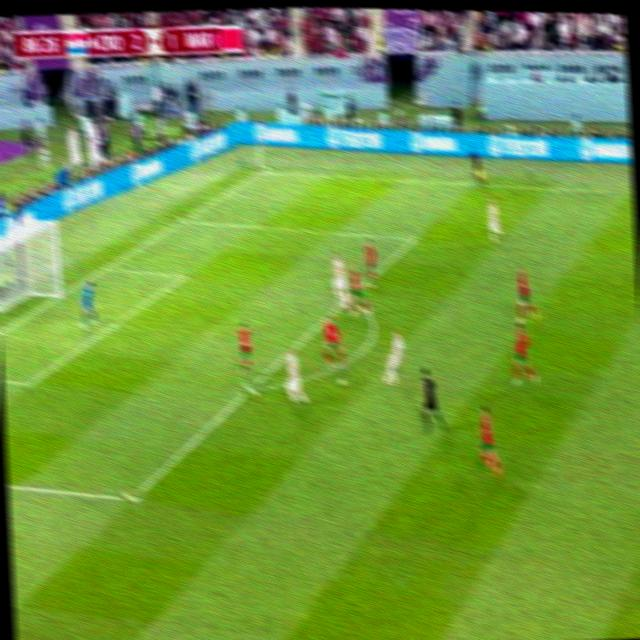bigarea_bottom_inner: (121, 485, 142, 514)
bigarea_top_inner: (406, 224, 422, 255)
bigarea_top_outter: (177, 210, 190, 231)
bottom_arc_area_intersection: (243, 376, 259, 406)
corner: (256, 166, 272, 178)
smallarea_bottom_inner: (23, 373, 40, 394)
smallarea_top_inner: (178, 264, 194, 289)
smallarea_top_outter: (98, 259, 116, 280)
